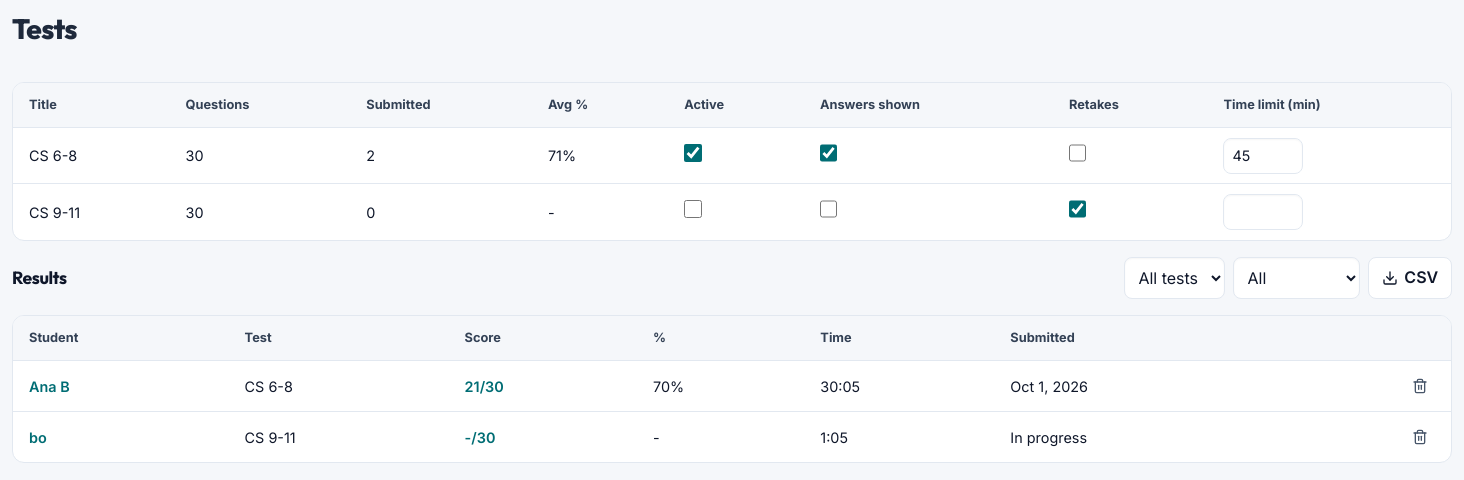
Test: AdminTests › tests table › reverts the time limit when the save fails
Replace the text in the number field named "Time limit (min): CS 6-8" with "90" at (1264, 156), box [1224, 138, 1304, 174]
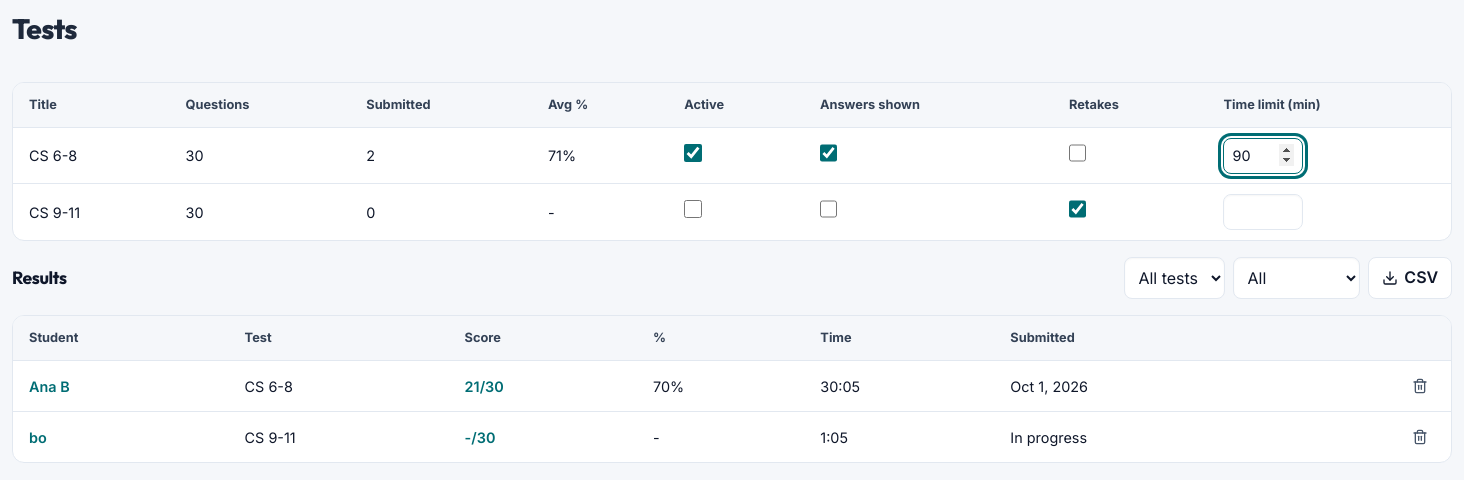
Press Tab
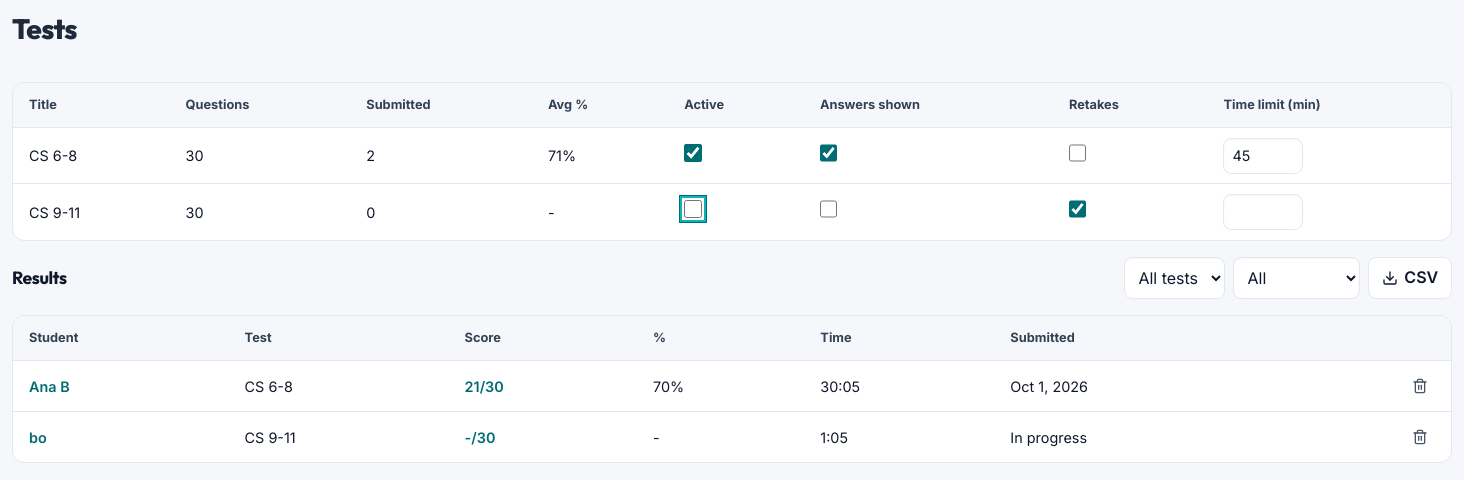
Check: the number field named "Time limit (min): CS 6-8" holds "45", box [1224, 138, 1304, 174]
